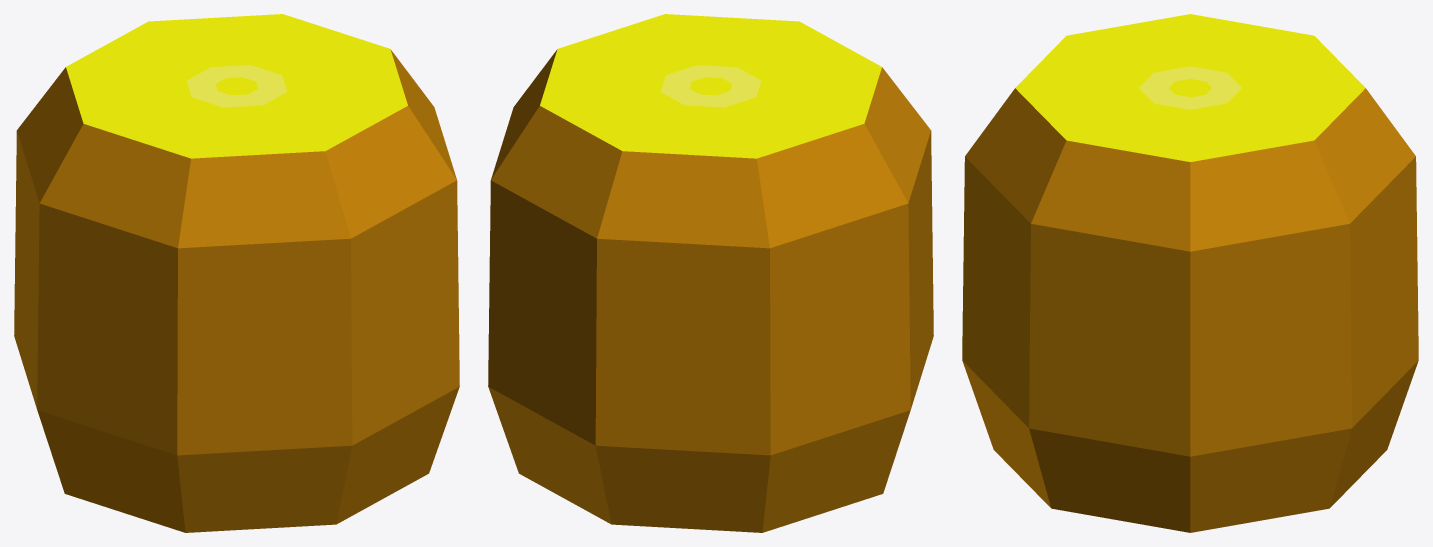
The model's file is pineapple02.gltf.
3 renders of one model, left to right at view 1: azimuth 30°, elevation 25°; view 2: azimuth 150°, elevation 25°; view 3: azimuth 270°, elevation 25°, orthographic.
Visible parts, largest first — view 1: Cylinder; view 2: Cylinder; view 3: Cylinder.
Boxes of the visible parts, left/top/right/bottom form: Cylinder: left=14, top=14, right=459, bottom=532; Cylinder: left=488, top=14, right=933, bottom=532; Cylinder: left=962, top=14, right=1418, bottom=532.
Size of the model in its own units: 0.1403 by 0.1226 by 0.1403.
Materials: 1 (1 with a texture image).
